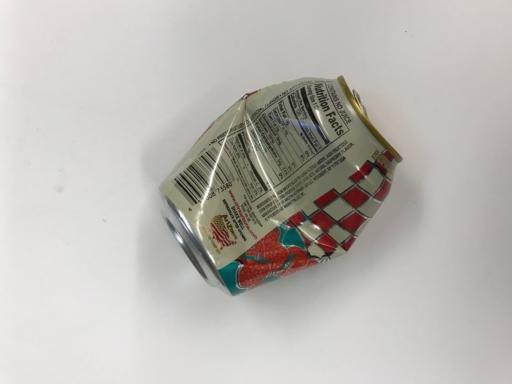kaleng: (158, 76, 404, 297)
